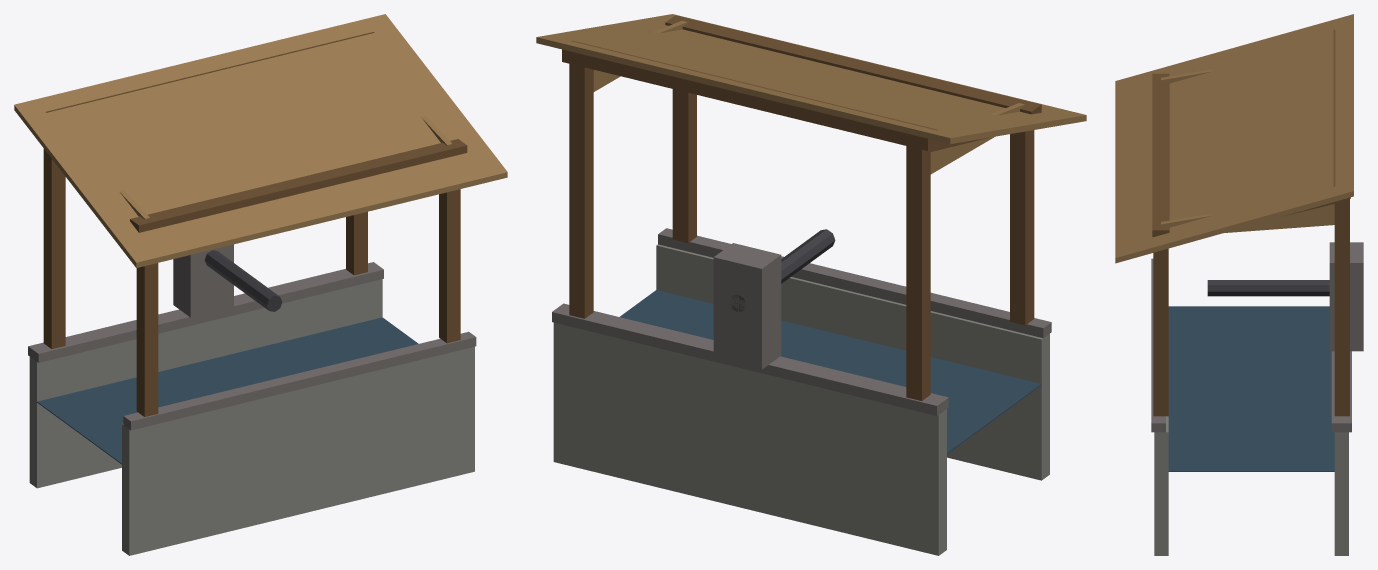
Rendered from WaterMill.fbx.
3 renders of one model, left to right at view 1: azimuth 30°, elevation 25°; view 2: azimuth 150°, elevation 25°; view 3: azimuth 270°, elevation 25°, orthographic. The views are drawn at different scales.
Visible parts, largest first — view 1: WaterMill; view 2: WaterMill; view 3: WaterMill.
Part boxes in pixels (x1,y1,x2,y2): WaterMill: (14,14,507,555); WaterMill: (536,14,1086,555); WaterMill: (1115,14,1363,555).
Bounding box in the file's own units: 4.3 × 4.2 × 2.55.
